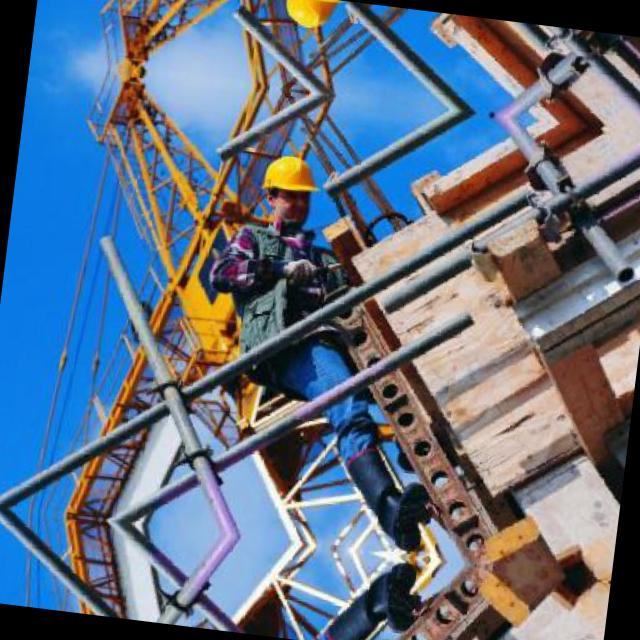helmet: (253, 143, 322, 225), (275, 0, 341, 37)
